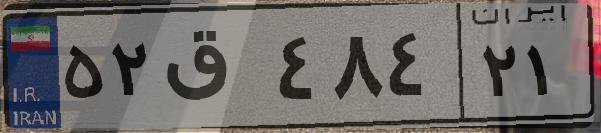1: (525, 38, 570, 115)
2: (475, 38, 525, 113), (110, 28, 158, 98)
4: (270, 28, 330, 110), (385, 28, 445, 110)
5: (57, 26, 110, 100)
8: (330, 28, 385, 110)
ق: (158, 20, 270, 120)
